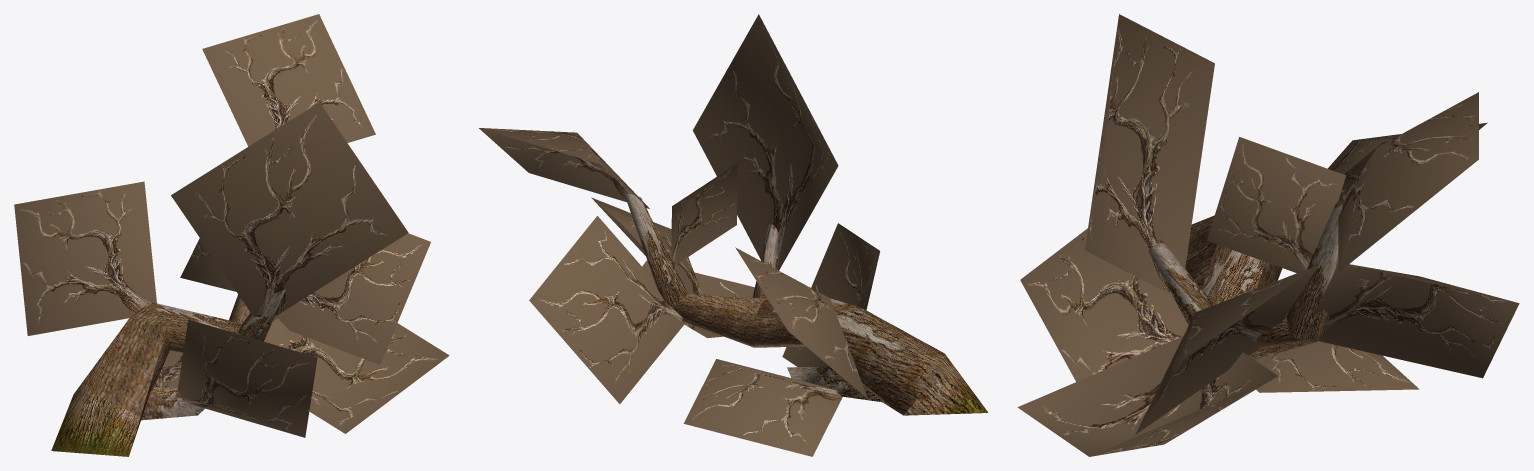
Rendered from tre_dry01.glb.
3 renders of one model, left to right at view 1: azimuth 30°, elevation 25°; view 2: azimuth 150°, elevation 25°; view 3: azimuth 270°, elevation 25°, orthographic. The views are drawn at different scales.
Parts seen in each view (by area): view 1: tre_dry_leaf, tre_dry_01, tre_dry_03, tre_dry_04; view 2: tre_dry_leaf, tre_dry_01, tre_dry_04, tre_dry_03; view 3: tre_dry_leaf, tre_dry_04, tre_dry_01.
Boxes of the visible parts, bbox=[...] form: tre_dry_leaf: bbox=[14, 14, 449, 437]; tre_dry_01: bbox=[74, 294, 250, 416]; tre_dry_03: bbox=[51, 394, 140, 456]; tre_dry_04: bbox=[130, 289, 285, 420]; tre_dry_leaf: bbox=[479, 14, 880, 456]; tre_dry_01: bbox=[675, 293, 944, 415]; tre_dry_04: bbox=[624, 193, 938, 402]; tre_dry_03: bbox=[904, 354, 988, 415]; tre_dry_leaf: bbox=[1017, 14, 1519, 456]; tre_dry_04: bbox=[1148, 195, 1344, 341]; tre_dry_01: bbox=[1185, 215, 1316, 359].
Bounding box in the file's own units: 8.6 × 7.04 × 7.32.
5 materials, 5 textured.
